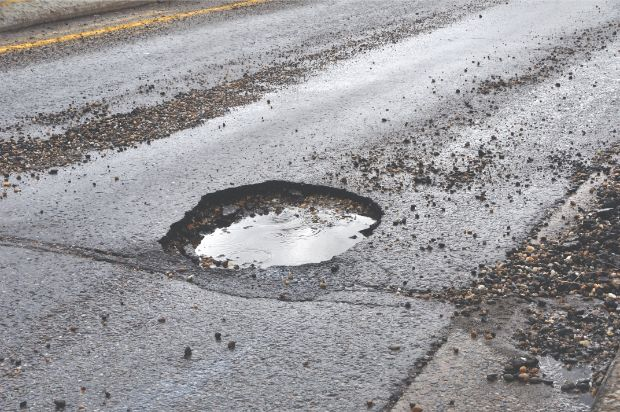pothole: (153, 176, 386, 273)
